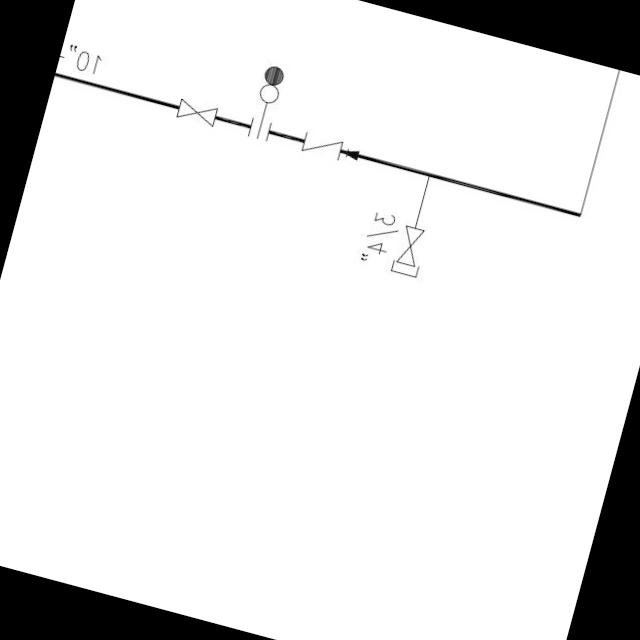EC: (384, 188, 442, 284)
GV: (172, 93, 225, 130), (392, 219, 426, 267)
